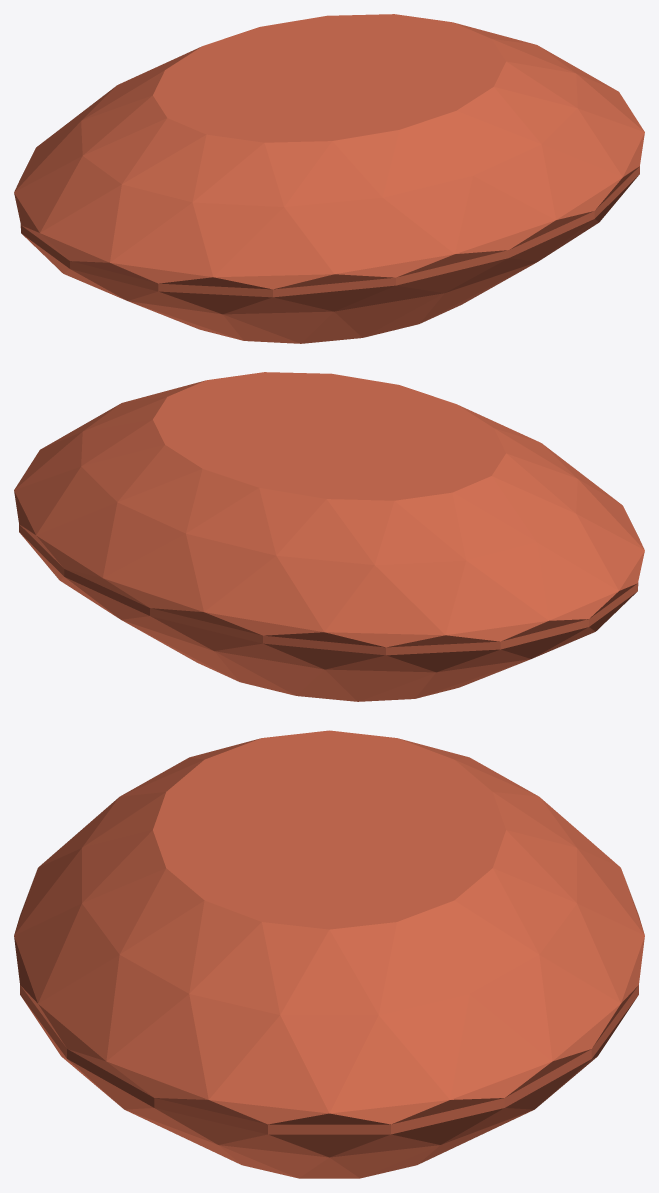
File: neelam.glb
3 views of the same model, one above another, from view 1: azimuth 30°, elevation 25°; view 2: azimuth 150°, elevation 25°; view 3: azimuth 270°, elevation 25° (orthographic). The views are drawn at different scales.
Visible parts, largest first — view 1: stone; view 2: stone; view 3: stone.
Boxes of the visible parts, x1,y1,x2,y2 form: stone: (14, 14, 644, 343); stone: (14, 372, 644, 701); stone: (14, 730, 644, 1178).
Bounding box in the file's own units: 0.8 × 0.2861 × 0.6.
